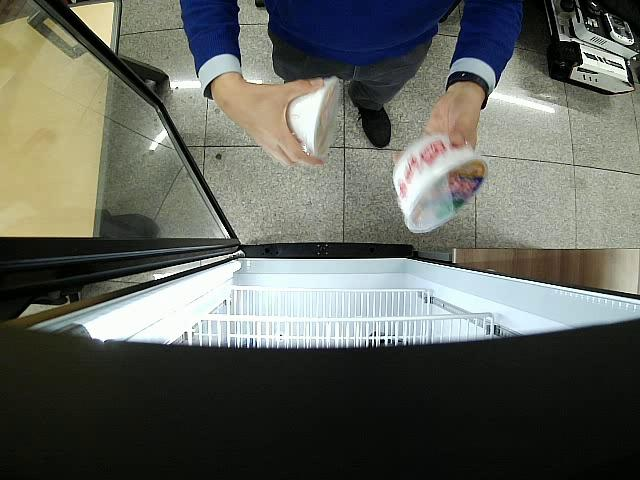00_hand: (212, 77, 325, 170), (392, 86, 479, 164)
09_yukGaeJang: (393, 134, 489, 234), (288, 77, 345, 158)
